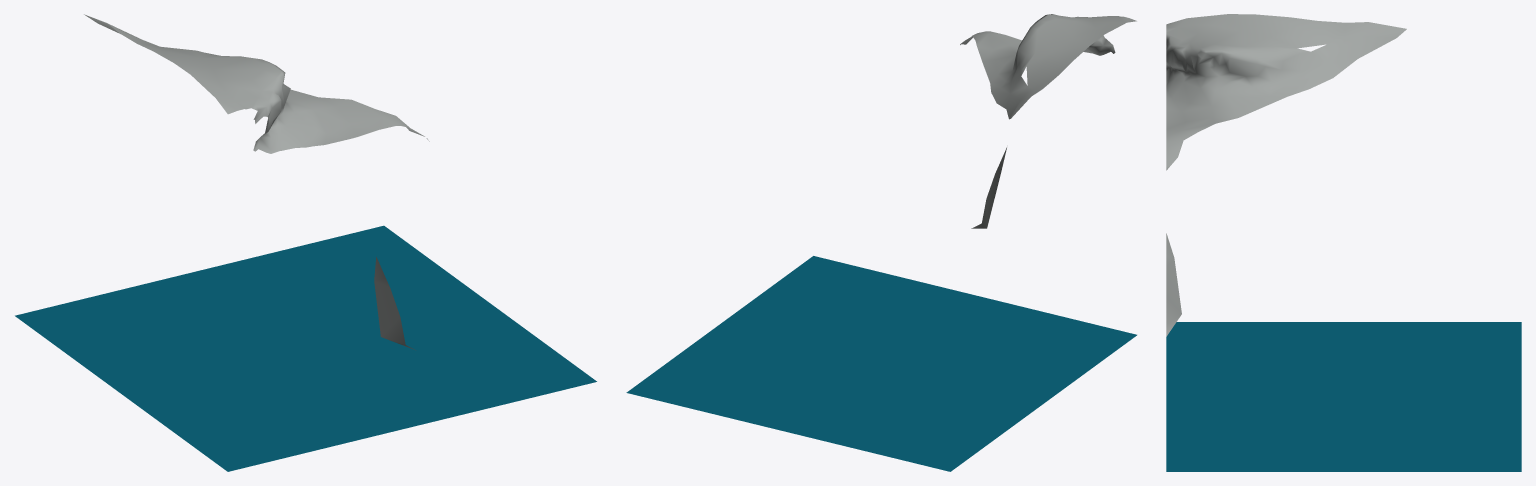
3 views of the same model, side by side, from view 1: azimuth 30°, elevation 25°; view 2: azimuth 150°, elevation 25°; view 3: azimuth 270°, elevation 25° (orthographic). The views are drawn at different scales.
Parts seen in each view (by area): view 1: G:\FFXIV-MapTools\exports\s1f3\bg\ffxiv\sea_s1\fld\s1f3\bgpl (×6); view 2: G:\FFXIV-MapTools\exports\s1f3\bg\ffxiv\sea_s1\fld\s1f3\bgpl (×5); view 3: G:\FFXIV-MapTools\exports\s1f3\bg\ffxiv\sea_s1\fld\s1f3\bgpl (×8).
Boxes of the visible parts, <box> form: G:\FFXIV-MapTools\exports\s1f3\bg\ffxiv\sea_s1\fld\s1f3\bgpl (×6): <box>15,14,596,471</box>; G:\FFXIV-MapTools\exports\s1f3\bg\ffxiv\sea_s1\fld\s1f3\bgpl (×5): <box>626,14,1136,471</box>; G:\FFXIV-MapTools\exports\s1f3\bg\ffxiv\sea_s1\fld\s1f3\bgpl (×8): <box>1166,14,1521,471</box>.
Bounding box in the file's own units: 128 × 122 × 128.
